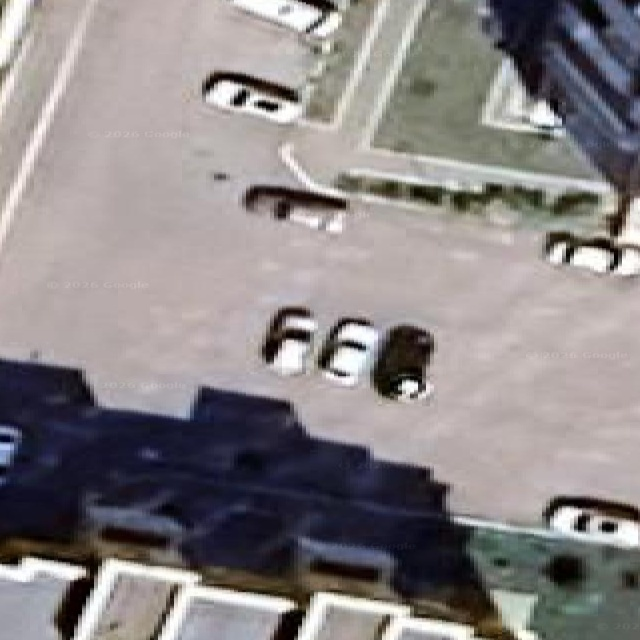car: (202, 72, 302, 123), (243, 185, 348, 233), (544, 497, 639, 547), (372, 325, 434, 400), (230, 0, 341, 38), (318, 318, 377, 385), (262, 307, 317, 375), (544, 232, 620, 273), (0, 425, 21, 485), (528, 100, 563, 134), (544, 231, 573, 265), (614, 244, 639, 276)
